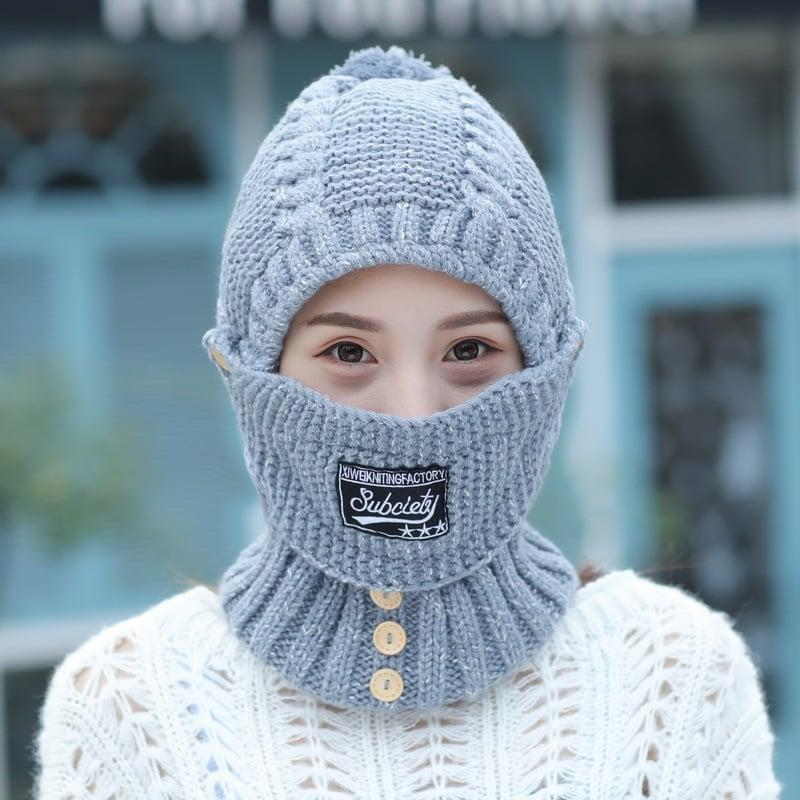cap: (212, 40, 594, 362)
scarf-kerchief: (202, 352, 598, 684)
